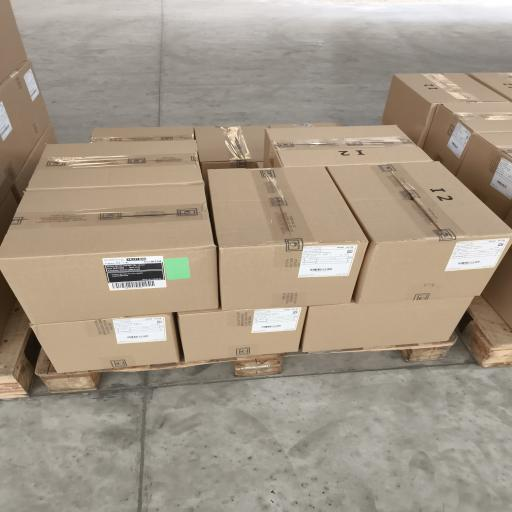pallet: (36, 334, 456, 392), (460, 297, 511, 367), (0, 303, 34, 398), (36, 349, 99, 392), (401, 332, 458, 362)
